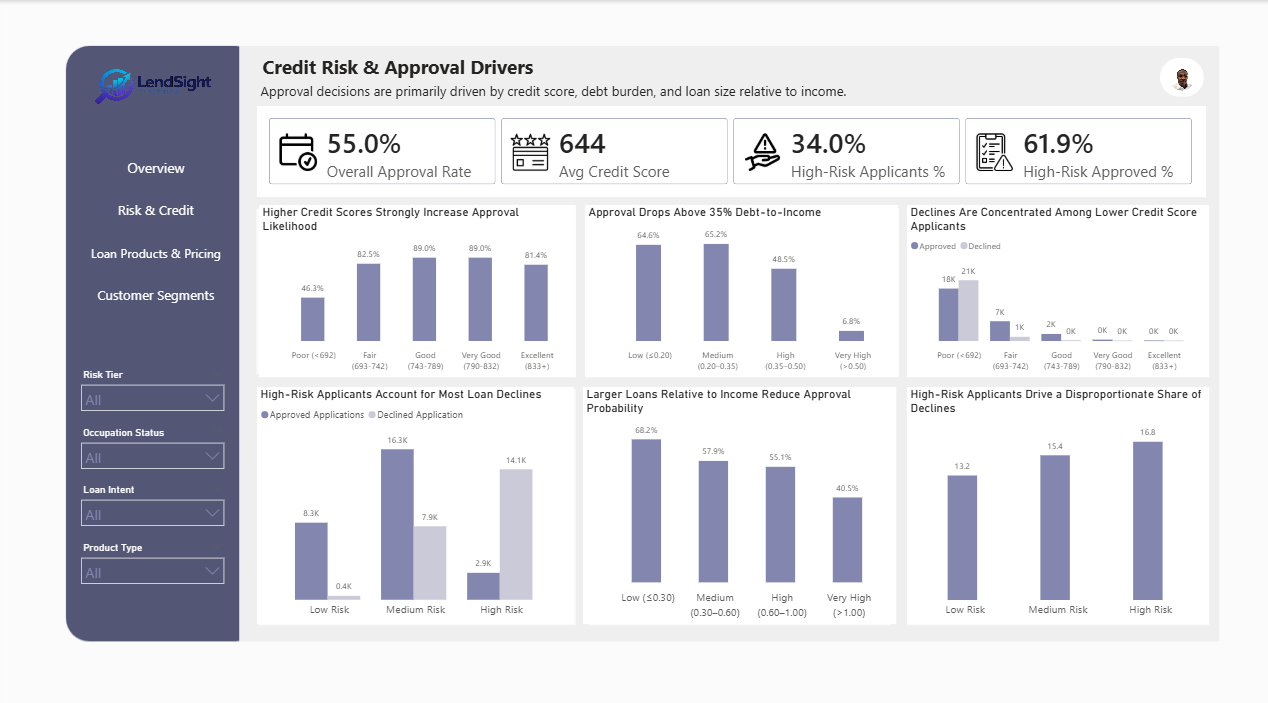

What the dashboard file says about the page in this screenshot:
{"tool":"powerbi","page":{"name":"Risk & Credit Profile","canvas":[1800,1000],"ordinal":1},"visuals":[{"type":"clusteredColumnChart","title":"Higher Credit Scores Strongly Increase Approval Likelihood","fields":{"Y":["Measure Table.Approval Rate %"],"Category":["Loan_data.Credit Score Band"]},"box":[368.5,290.6,449.3,243.8],"z":0},{"type":"clusteredColumnChart","title":"Approval Drops Above 35% Debt-to-Income","fields":{"Category":["Loan_data.DTI Band"],"Y":["Measure Table.Approval Rate %"]},"box":[830.6,290.6,443.6,243.8],"z":1000},{"type":"clusteredColumnChart","title":"Declines Are Concentrated Among Lower Credit Score Applicants","fields":{"Category":["Loan_data.Credit Score Band"],"Series":["Loan_data.Loan Status"],"Y":["Measure Table.Total Applications"]},"box":[1286.9,290.6,428,243.8],"z":2000},{"type":"clusteredColumnChart","title":"High-Risk Applicants Account for Most Loan Declines","fields":{"Category":["Loan_data.Risk Tier"],"Y":["Measure Table.Approved Applications","Measure Table.Declined Application"]},"box":[365.7,548.5,449.3,335.9],"z":3000},{"type":"clusteredColumnChart","title":"Larger Loans Relative to Income Reduce Approval Probability","fields":{"Y":["Measure Table.Overall Approval Rate"],"Category":["Loan_data.LTI Band"]},"box":[827.7,548.5,443.6,335.9],"z":4000},{"type":"clusteredColumnChart","title":"High-Risk Applicants Drive a Disproportionate Share of Declines","fields":{"Category":["Loan_data.Risk Tier"],"Y":["Measure Table.Avg Interest Rate (%)"]},"box":[1286.9,548.5,428,335.9],"z":5000},{"type":"slicer","fields":{"Values":["Loan_data.Risk Tier"]},"box":[106.3,517.3,222.5,82.2],"z":6000},{"type":"slicer","fields":{"Values":["Loan_data.occupation_status"]},"box":[106.3,599.5,222.5,80.8],"z":7000},{"type":"slicer","fields":{"Values":["Loan_data.loan_intent"]},"box":[106.3,680.3,222.5,69.4],"z":8000},{"type":"slicer","fields":{"Values":["Loan_data.product_type"]},"box":[106.3,762.5,222.5,83.6],"z":9000},{"type":"cardVisual","fields":{"Data":["Measure Table.Overall Approval Rate","Measure Table.Avg Credit Score","DAX Measures.High-Risk Applicants %","DAX Measures.High-Risk Approved %"]},"box":[365.7,150.2,1345,129],"z":10000},{"type":"textbox","box":[368.5,70.9,769.6,46.8],"z":11000},{"type":"actionButton","box":[116.2,215.4,212.6,43.9],"z":12000},{"type":"actionButton","box":[116.2,276.4,212.6,42.5],"z":13000},{"type":"actionButton","box":[116.2,337.3,212.6,42.5],"z":14000},{"type":"actionButton","box":[116.2,396.9,212.6,41.1],"z":15000},{"type":"image","box":[1645.5,82.2,62.4,55.3],"z":15001},{"type":"image","box":[93.5,70.9,246.6,120.5],"z":15002},{"type":"textbox","box":[365.7,110.6,929.8,39.7],"z":15003}]}

Visuals, with their boxes on the page's 1800x1000 design canvas (x1, y1, x2, y2). These are canvas units, not pixel positions in the 1268x703 screenshot, which may show the page scaled, cropped or inside an application window:
"Higher Credit Scores Strongly Increase Approval Likelihood" clusteredColumnChart: Rect(368, 291, 818, 534)
"Approval Drops Above 35% Debt-to-Income" clusteredColumnChart: Rect(831, 291, 1274, 534)
"Declines Are Concentrated Among Lower Credit Score Applicants" clusteredColumnChart: Rect(1287, 291, 1715, 534)
"High-Risk Applicants Account for Most Loan Declines" clusteredColumnChart: Rect(366, 548, 815, 884)
"Larger Loans Relative to Income Reduce Approval Probability" clusteredColumnChart: Rect(828, 548, 1271, 884)
"High-Risk Applicants Drive a Disproportionate Share of Declines" clusteredColumnChart: Rect(1287, 548, 1715, 884)
slicer - Loan_data.Risk Tier: Rect(106, 517, 329, 600)
slicer - Loan_data.occupation_status: Rect(106, 600, 329, 680)
slicer - Loan_data.loan_intent: Rect(106, 680, 329, 750)
slicer - Loan_data.product_type: Rect(106, 762, 329, 846)
cardVisual - Measure Table.Overall Approval Rate x Measure Table.Avg Credit Score: Rect(366, 150, 1711, 279)
textbox: Rect(368, 71, 1138, 118)
actionButton: Rect(116, 215, 329, 259)
actionButton: Rect(116, 276, 329, 319)
actionButton: Rect(116, 337, 329, 380)
actionButton: Rect(116, 397, 329, 438)
image: Rect(1646, 82, 1708, 138)
image: Rect(94, 71, 340, 191)
textbox: Rect(366, 111, 1296, 150)
